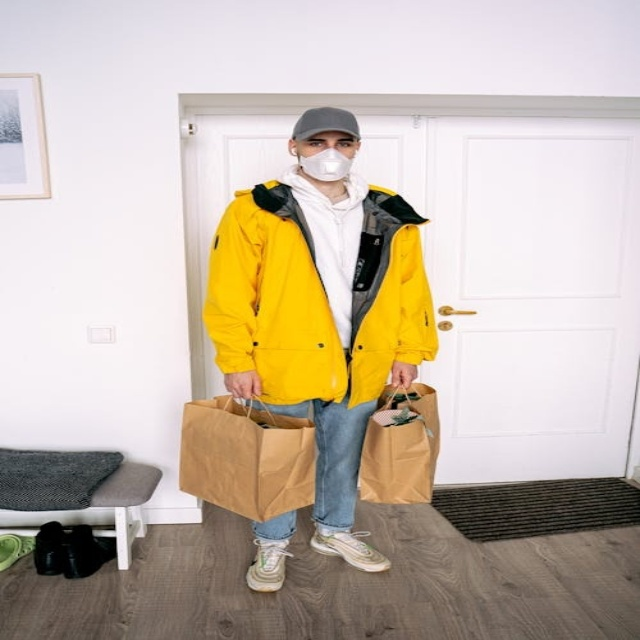Mascara: (296, 146, 356, 181)
Sin_gafas: (308, 139, 326, 144), (337, 142, 352, 148)
Sin_guantes: (218, 367, 268, 400), (385, 358, 431, 393)
